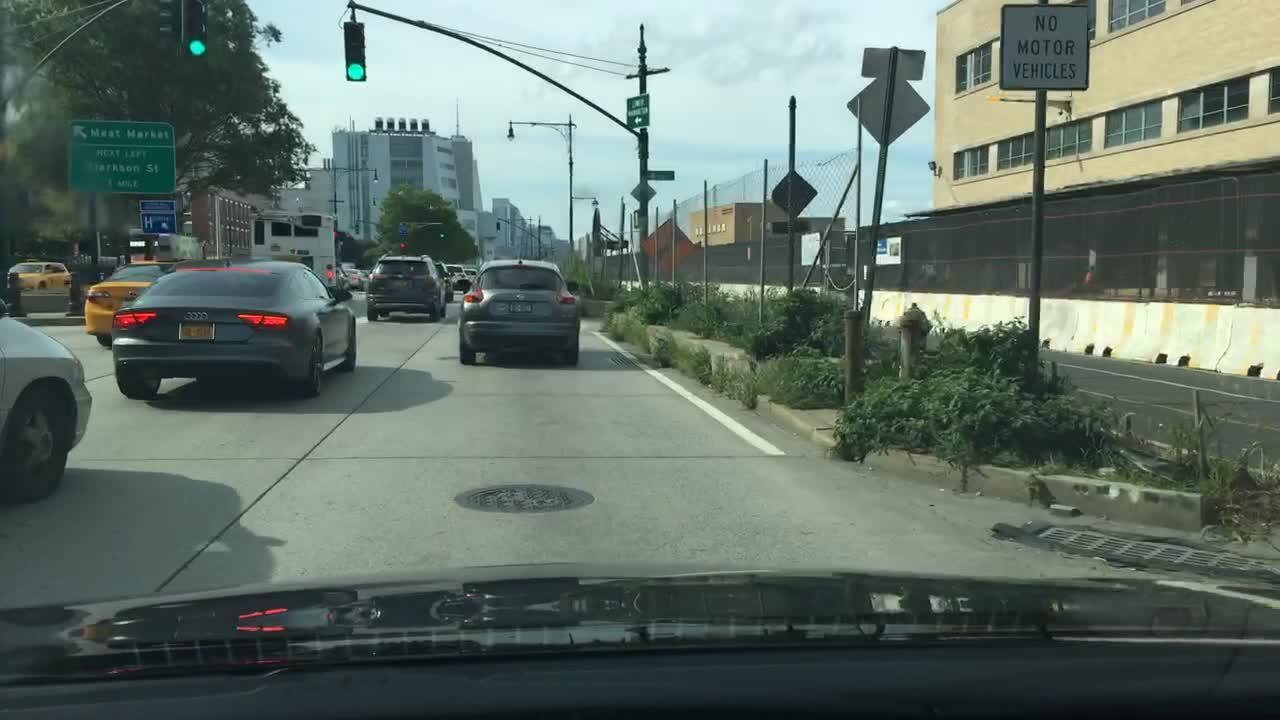Audi: (175, 303, 215, 325)
